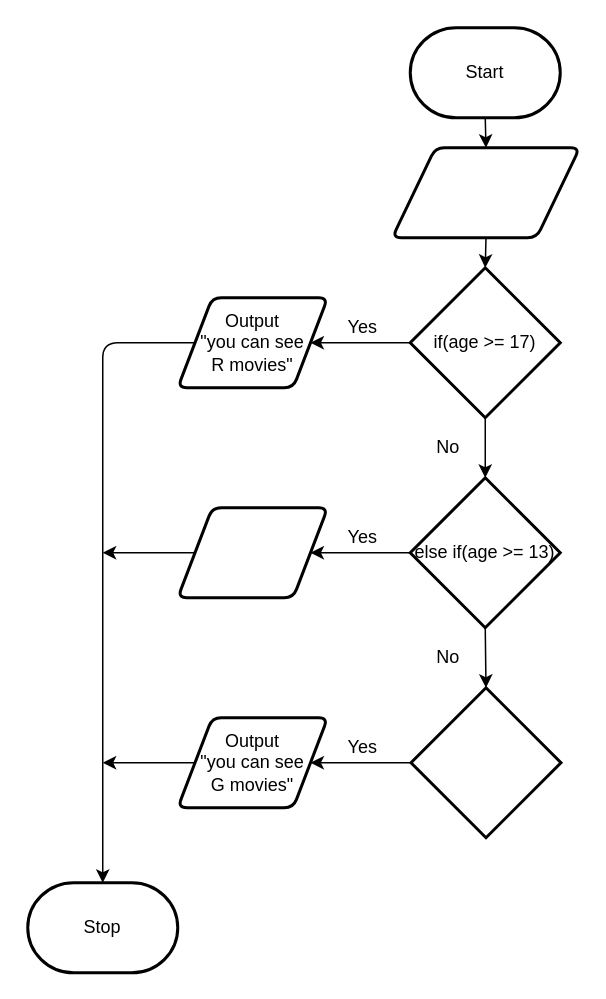
Image size: 606x999. Some labels were removed from this diagram. Each missing label, with the box of its shape:
else(age < 13): (409, 686, 562, 838)
Enter age: (390, 146, 580, 238)
Output "you can see PG-13 movies": (176, 506, 328, 598)
